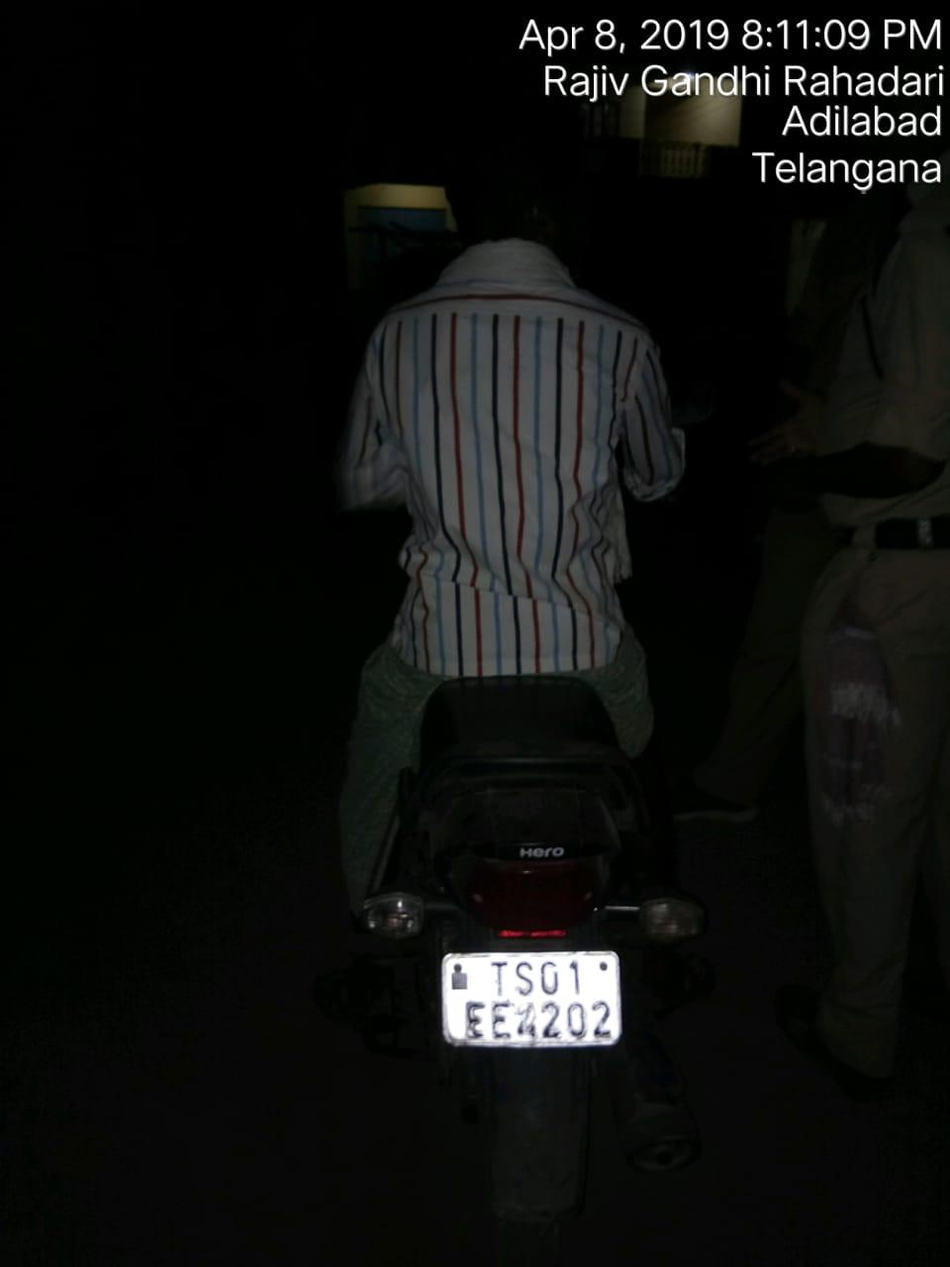plate: (429, 939, 644, 1066)
